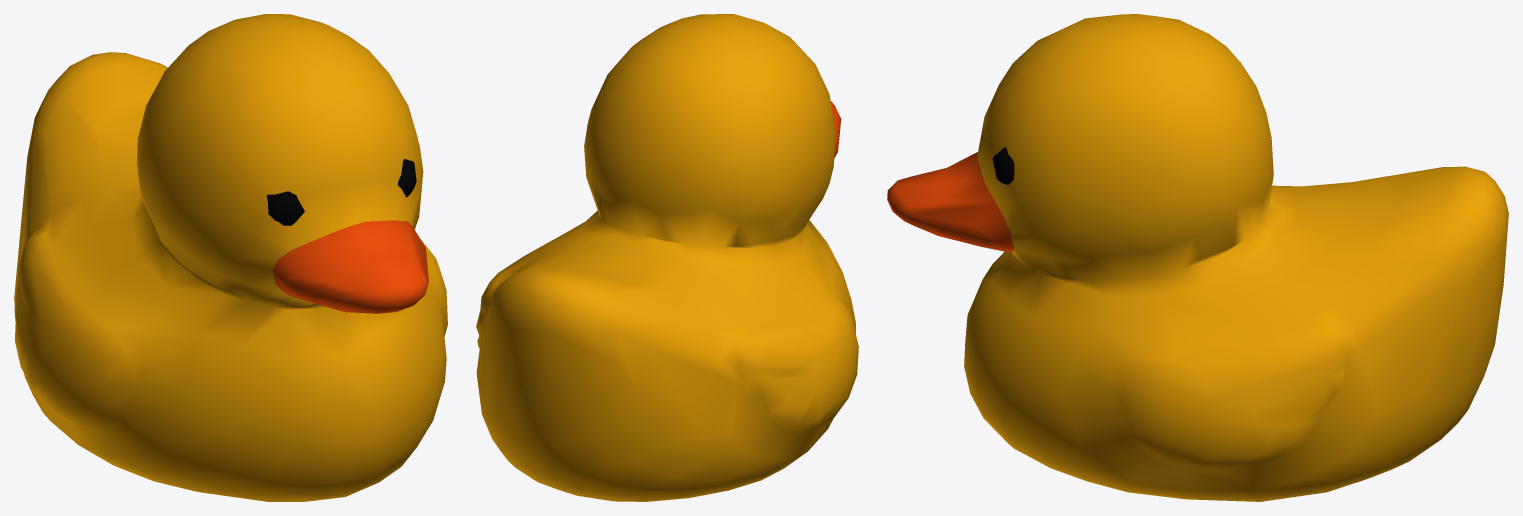
Rendered from yazi.fbx.
3 views of the same model, side by side, from view 1: azimuth 30°, elevation 25°; view 2: azimuth 150°, elevation 25°; view 3: azimuth 270°, elevation 25° (orthographic). The views are drawn at different scales.
Visible parts, largest first — view 1: 3ceb5d39-f677-4a4e-ac26-2b21e81da278; view 2: 3ceb5d39-f677-4a4e-ac26-2b21e81da278; view 3: 3ceb5d39-f677-4a4e-ac26-2b21e81da278.
Boxes of the visible parts, x1=… form: 3ceb5d39-f677-4a4e-ac26-2b21e81da278: x1=14, y1=14, x2=447, y2=501; 3ceb5d39-f677-4a4e-ac26-2b21e81da278: x1=476, y1=14, x2=858, y2=501; 3ceb5d39-f677-4a4e-ac26-2b21e81da278: x1=887, y1=14, x2=1508, y2=501.
Bounding box in the file's own units: 67.06 × 74.25 × 97.8.
